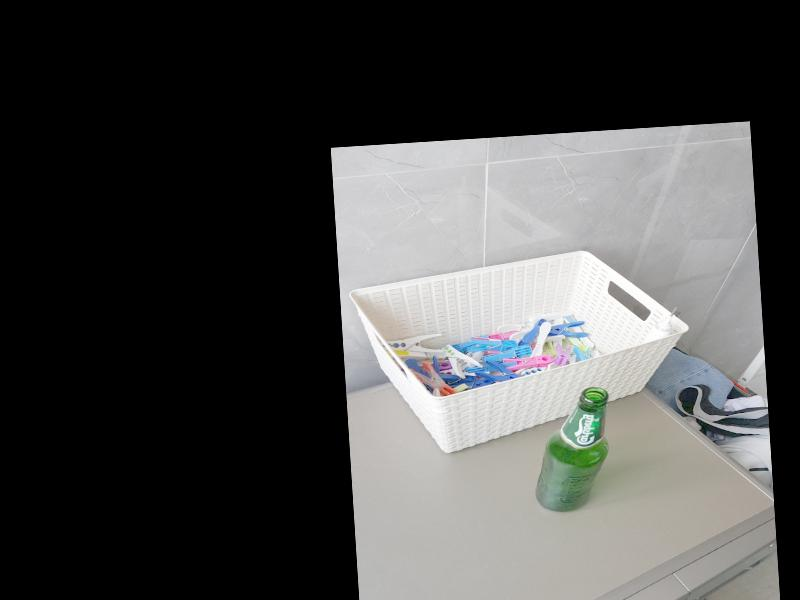Beer: (528, 385, 614, 513)
